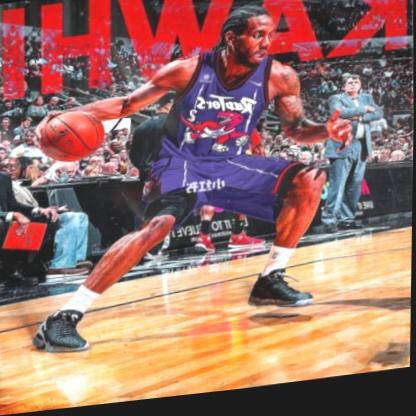basketball: (39, 109, 105, 167)
